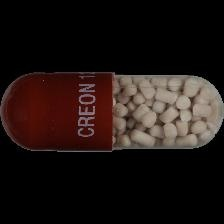54868-6067: (0, 0, 224, 224)
